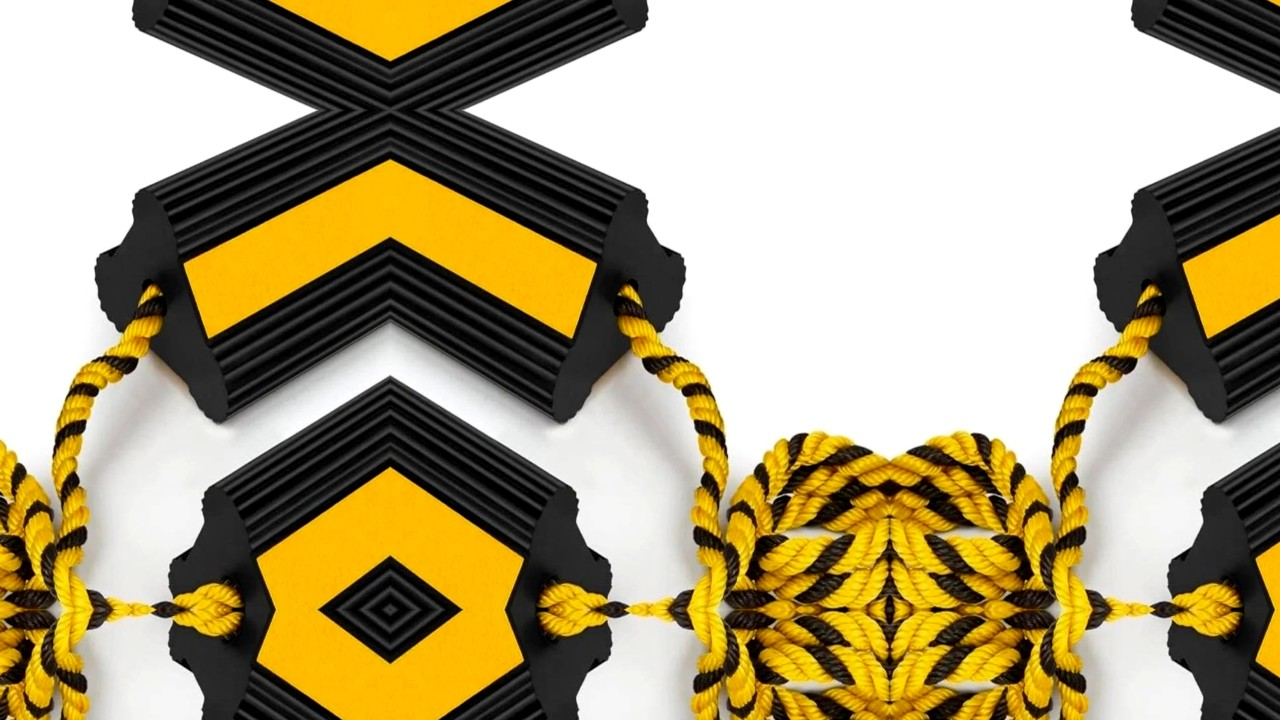chock: (70, 110, 390, 434), (390, 110, 710, 434), (142, 313, 390, 610), (390, 313, 638, 610), (1070, 110, 1280, 434), (1142, 313, 1280, 610), (70, 0, 390, 110), (390, 0, 710, 110), (142, 610, 390, 720), (390, 610, 638, 720), (1070, 0, 1280, 110), (1142, 610, 1280, 720)
